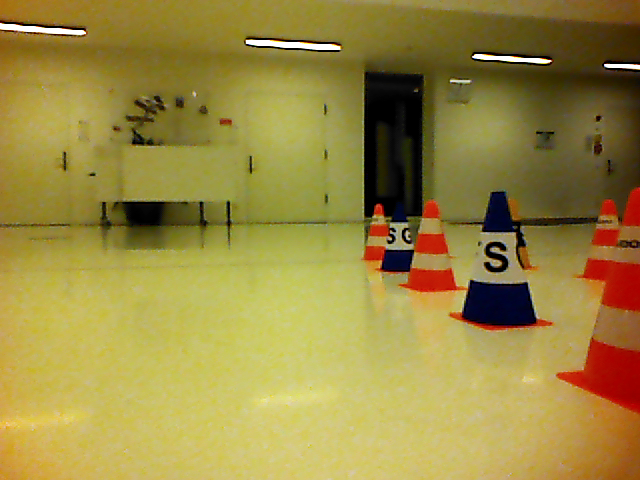bluecone: (466, 190, 539, 326), (381, 203, 411, 272)
orangeconesmall: (584, 188, 640, 402), (409, 200, 458, 289), (586, 197, 616, 280)
